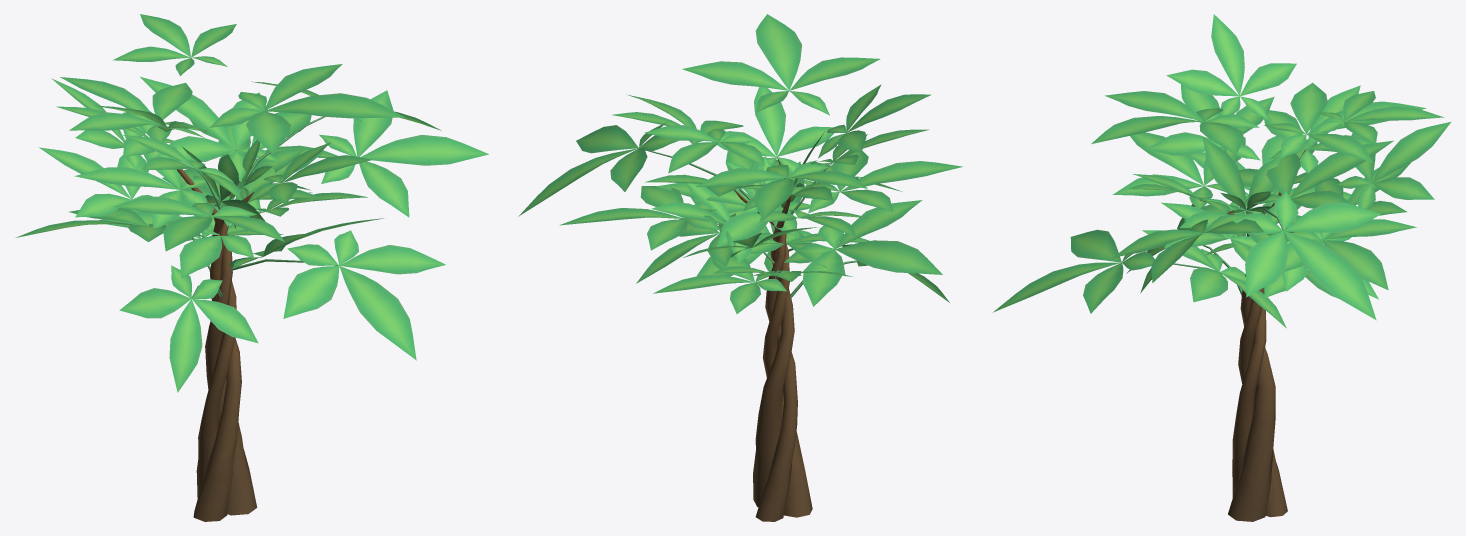
Rendered from MoneyTree.fbx.
3 views of the same model, side by side, from view 1: azimuth 30°, elevation 25°; view 2: azimuth 150°, elevation 25°; view 3: azimuth 270°, elevation 25° (orthographic). The views are drawn at different scales.
Visible parts, largest first — view 1: Circle.003; view 2: Circle.003; view 3: Circle.003.
Part boxes in pixels (x1,y1,x2,y2): Circle.003: [15, 14, 488, 521]; Circle.003: [518, 14, 963, 521]; Circle.003: [993, 14, 1451, 521].
Size of the model in its own units: 275 by 292 by 281.
